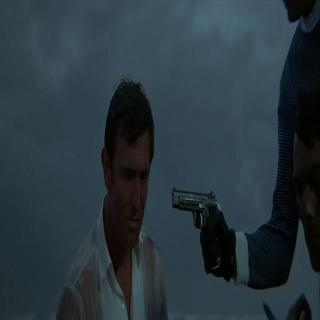gun: (171, 180, 232, 288)
